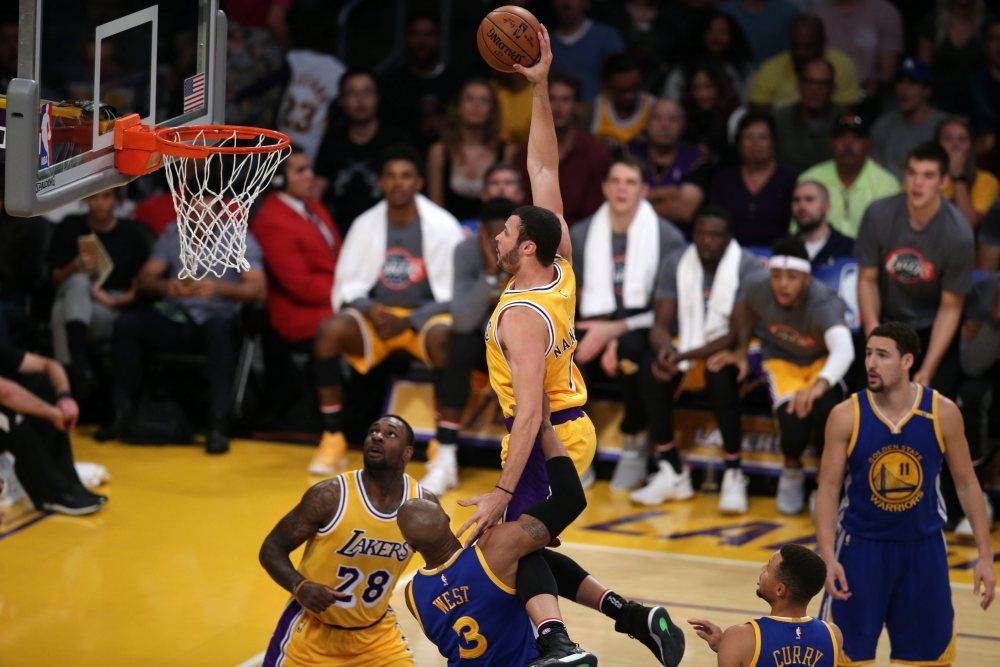basketball: (475, 1, 551, 79)
basketball player: (495, 66, 686, 665), (812, 324, 1000, 659), (258, 418, 441, 667), (397, 499, 534, 667), (684, 550, 836, 667)
